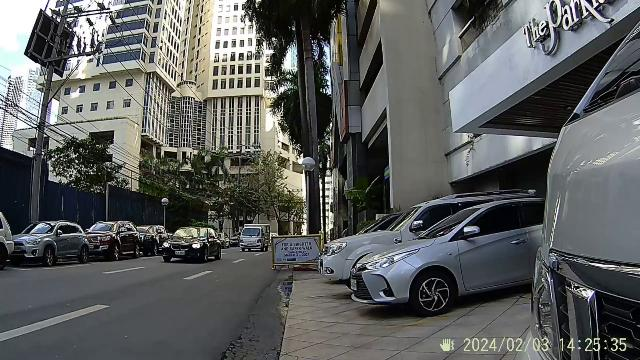lamp_post: (298, 154, 320, 230), (158, 195, 170, 226)
street_sign: (270, 233, 324, 275)
utility_post: (24, 0, 114, 214)
